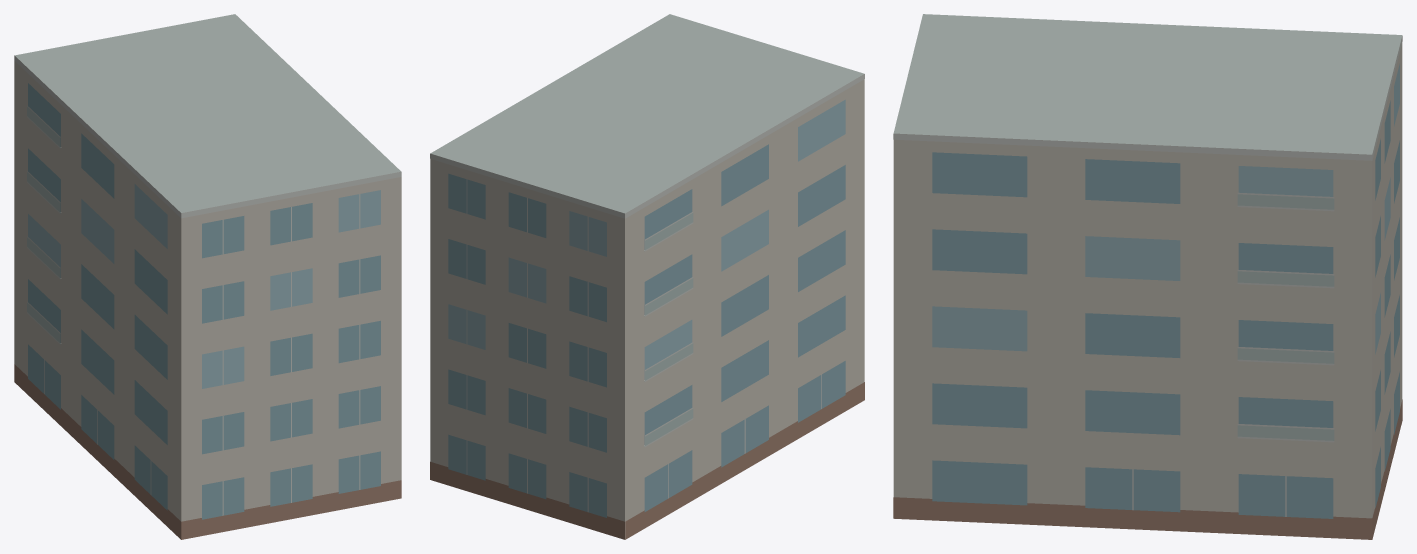
Rendered from survey-upis-32670570.glb.
The picture shows the model from 3 angles, left to right: view 1: azimuth 30°, elevation 25°; view 2: azimuth 150°, elevation 25°; view 3: azimuth 270°, elevation 25°; orthographic projection. The views are drawn at different scales.
Visible parts, largest first — view 1: survey-upis-32670570.tmp; view 2: survey-upis-32670570.tmp; view 3: survey-upis-32670570.tmp.
Boxes of the visible parts, x1=… form: survey-upis-32670570.tmp: x1=14, y1=14, x2=401, y2=539; survey-upis-32670570.tmp: x1=430, y1=14, x2=864, y2=539; survey-upis-32670570.tmp: x1=893, y1=14, x2=1402, y2=539.
Bounding box in the file's own units: 11.96 × 15.25 × 18.27.
